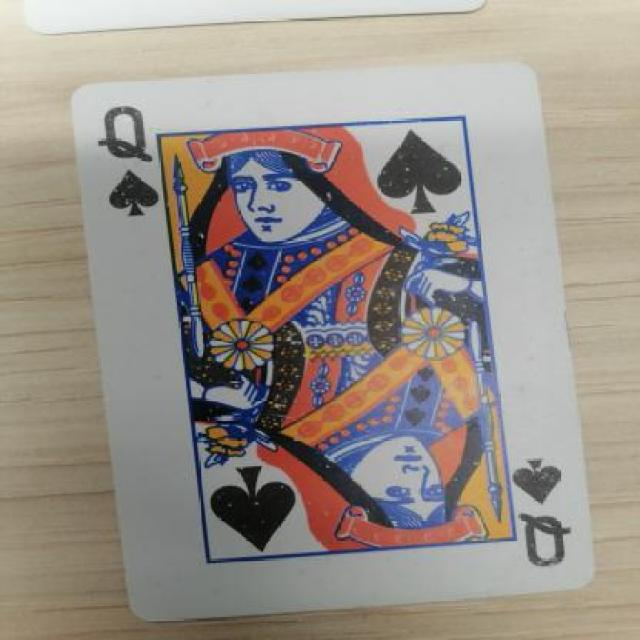QS: (89, 96, 178, 219), (512, 452, 600, 570)
